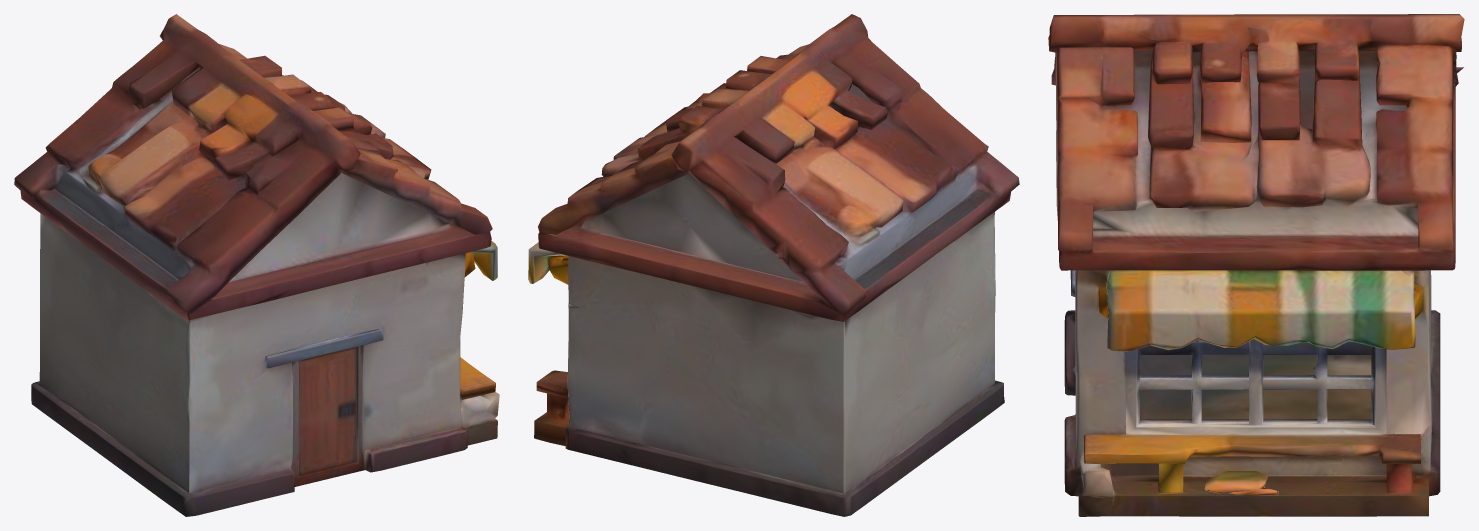
The model's file is shop.glb.
3 renders of one model, left to right at view 1: azimuth 30°, elevation 25°; view 2: azimuth 150°, elevation 25°; view 3: azimuth 270°, elevation 25°, orthographic. The views are drawn at different scales.
Visible parts, largest first — view 1: ShopBody; view 2: ShopBody; view 3: ShopBody.
Part boxes in pixels (box(x1,y1,x2,y2)): ShopBody: box(14, 14, 499, 516); ShopBody: box(528, 14, 1019, 516); ShopBody: box(1048, 14, 1464, 516).
Size of the model in its own units: 6 by 5.87 by 5.41.
1 material, 1 textured.
